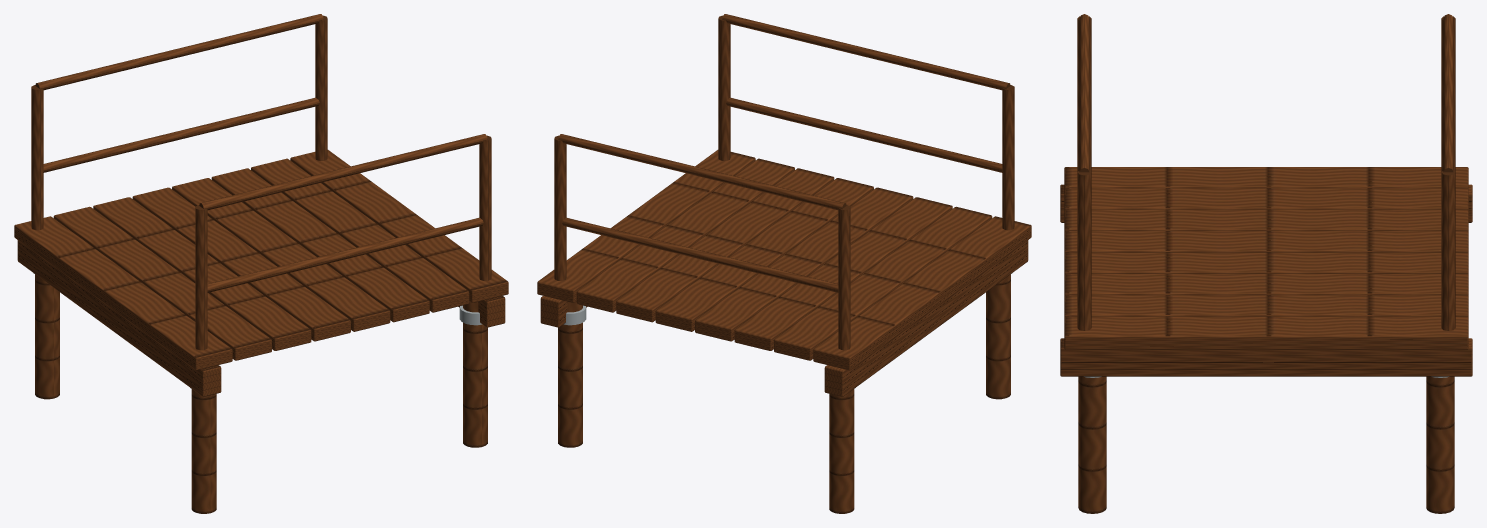
File: flooded-and-coastal-survival-raised-boardwalk-ef23aaaf__20042.glb
3 renders of one model, left to right at view 1: azimuth 30°, elevation 25°; view 2: azimuth 150°, elevation 25°; view 3: azimuth 270°, elevation 25°, orthographic. The views are drawn at different scales.
Parts seen in each view (by area): view 1: raised-boardwalk; view 2: raised-boardwalk; view 3: raised-boardwalk.
Boxes of the visible parts, <box> form: raised-boardwalk: <box>14,14,508,513</box>; raised-boardwalk: <box>537,14,1031,513</box>; raised-boardwalk: <box>1060,14,1472,513</box>.
Bounding box in the file's own units: 1.99 × 1.87 × 2.04.
2 materials, 1 textured.
